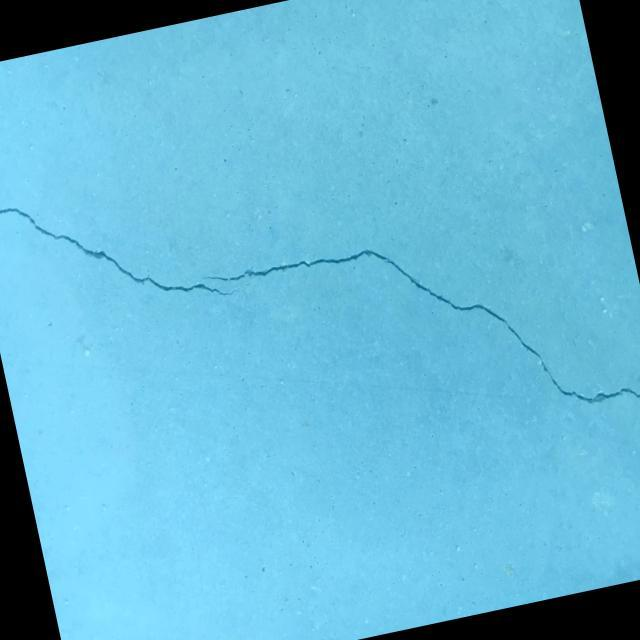crack: (199, 187, 640, 486), (0, 159, 241, 345)
